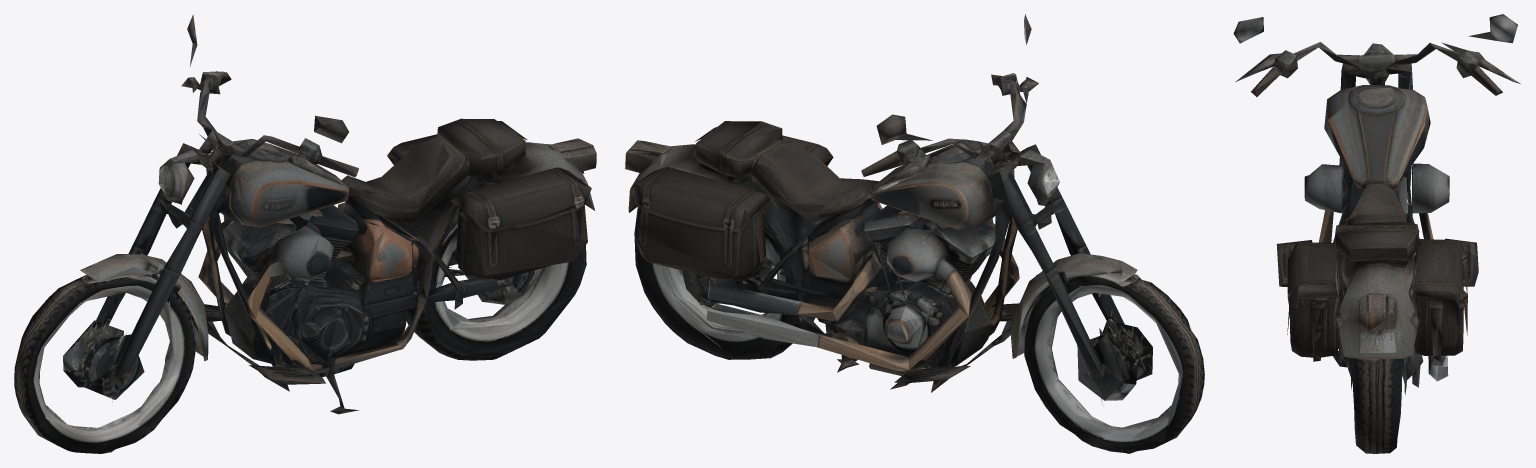
File: car_motorcycle_light.glb
3 views of the same model, side by side, from view 1: azimuth 30°, elevation 25°; view 2: azimuth 150°, elevation 25°; view 3: azimuth 270°, elevation 25° (orthographic). The views are drawn at different scales.
Visible parts, largest first — view 1: output_unwrapped; view 2: output_unwrapped; view 3: output_unwrapped.
Part boxes in pixels (x1,y1,x2,y2): output_unwrapped: (14,14,596,453); output_unwrapped: (625,14,1204,453); output_unwrapped: (1233,14,1520,453).
Bounding box in the file's own units: 1.97 × 1.15 × 0.9205.
1 material, 1 textured.
